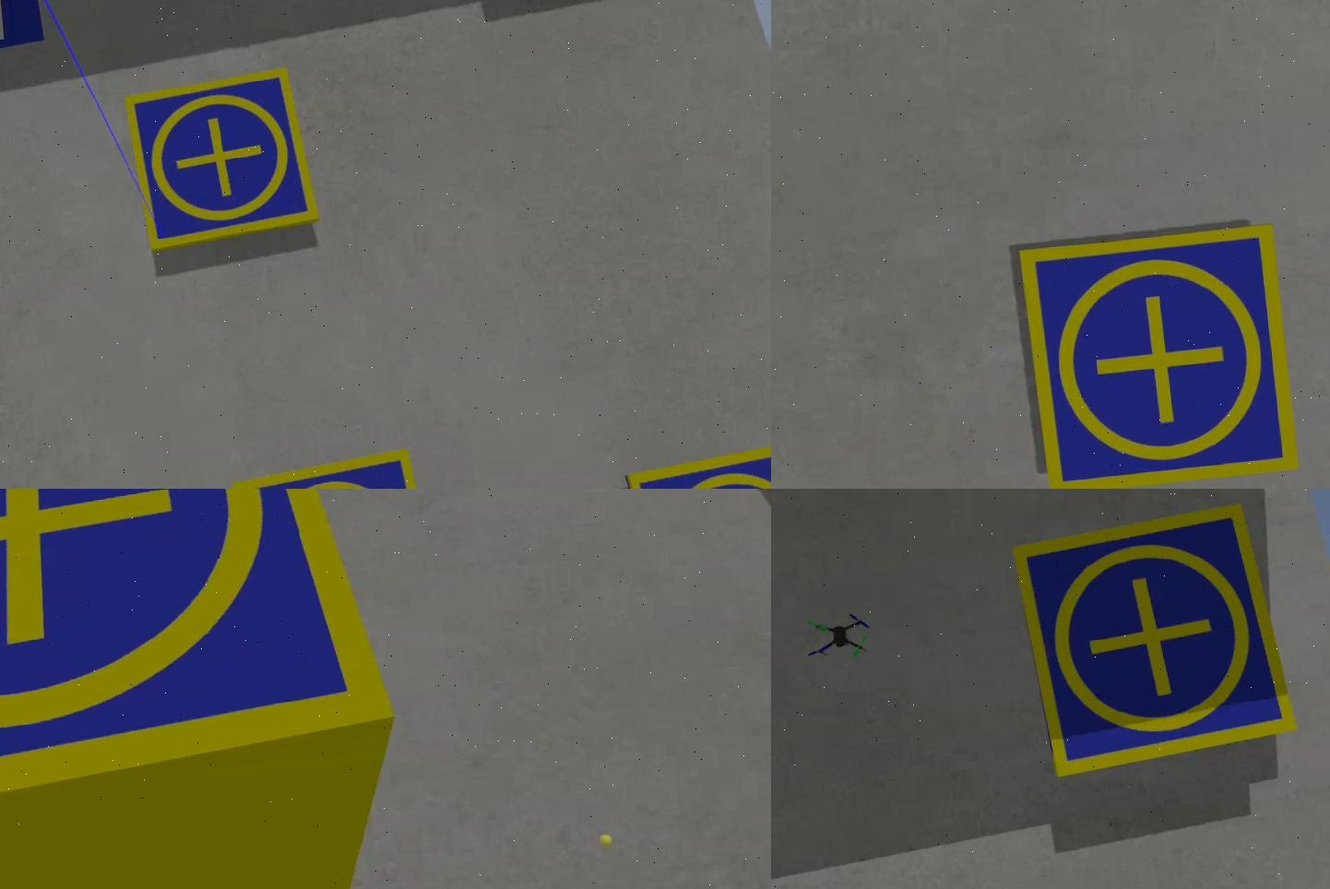small_base: (1, 490, 408, 880), (1012, 502, 1301, 786), (1017, 221, 1304, 490), (122, 66, 324, 256)
